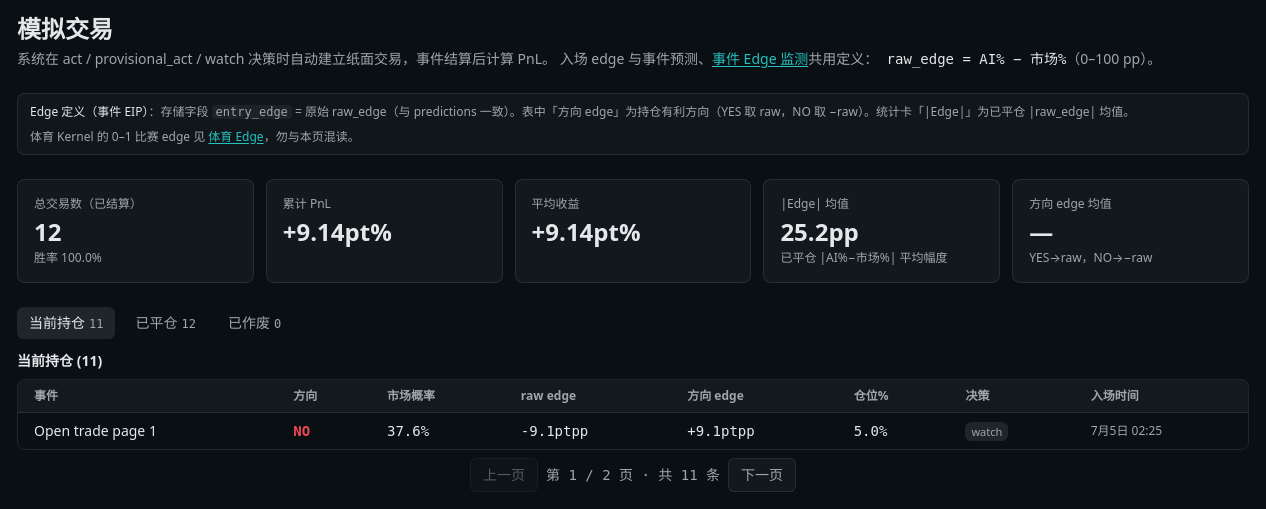
Scenario: TradesPage › paginates open and closed trade events with ten rows per page
This screenshot has width=1266, height=509.
Expected: the heading "当前持仓 (11)" is shown, [17,351,102,370]
Expected: the heading "已平仓 (12)" is not shown
Click the button "已平仓12".
click(166, 323)  # box [124,307,208,339]
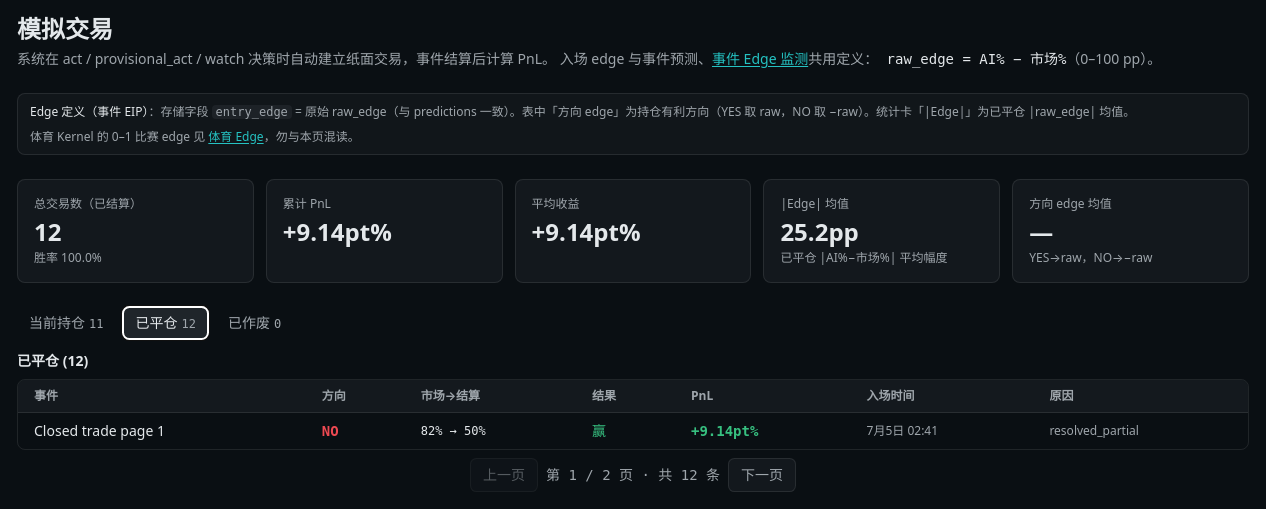
Now the element "已平仓 (12)" is shown, box [17,351,1249,492]
Now the text "第 1 / 2 页 · 共 12 条" is shown, box [546,465,720,485]
Click the button "下一页".
click(762, 475)  # box [728,458,796,492]
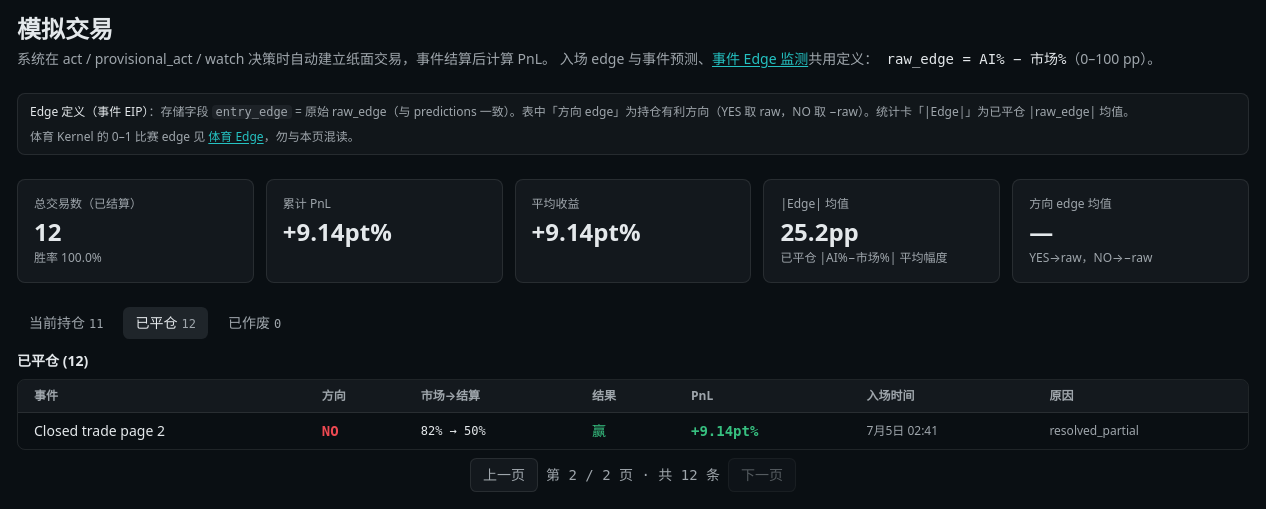
Now the element "已平仓 (12)" is shown, box [17,351,1249,492]
Now the link "Closed trade page 2" is shown, box [34,421,165,440]
Now the text "第 2 / 2 页 · 共 12 条" is shown, box [546,465,720,485]
Click the button "当前持仓11".
click(66, 323)  # box [17,307,116,339]
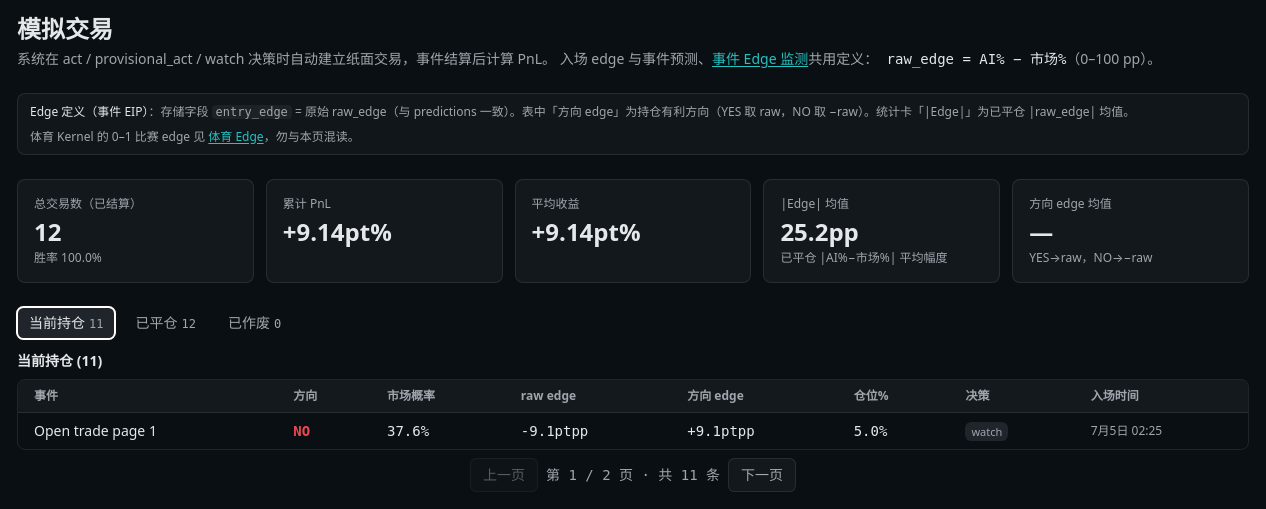
Expected: the element named "已平仓 (12)" is shown, [17,351,1249,492]
Click the button "下一页".
click(762, 475)  # box [728,458,796,492]
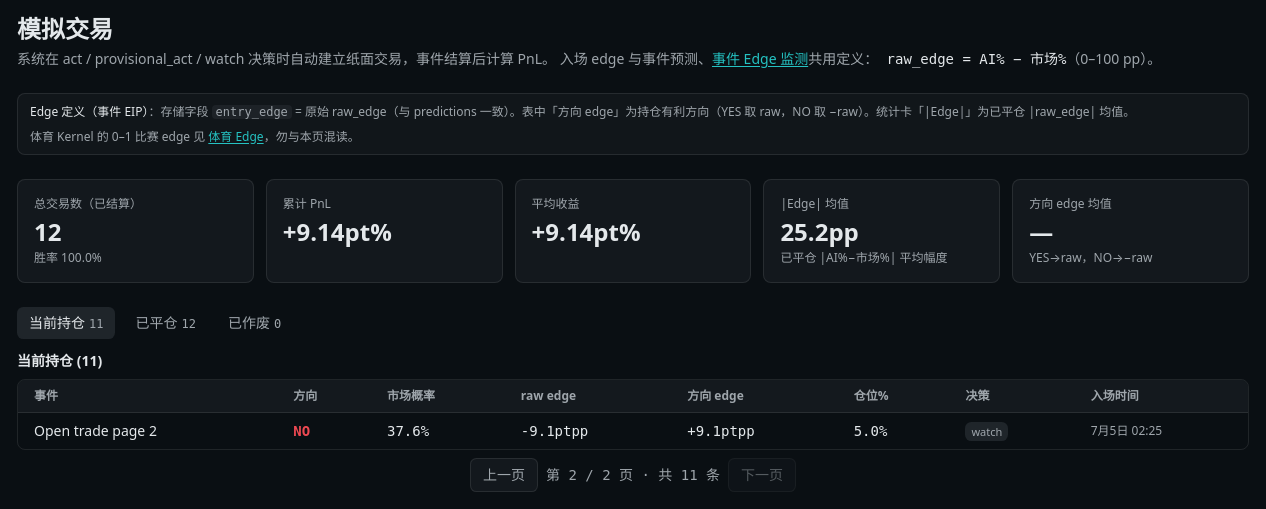
Expected: the element named "已平仓 (12)" is shown, [17,351,1249,492]
Now the link "Open trade page 2" is shown, box [34,421,157,440]
